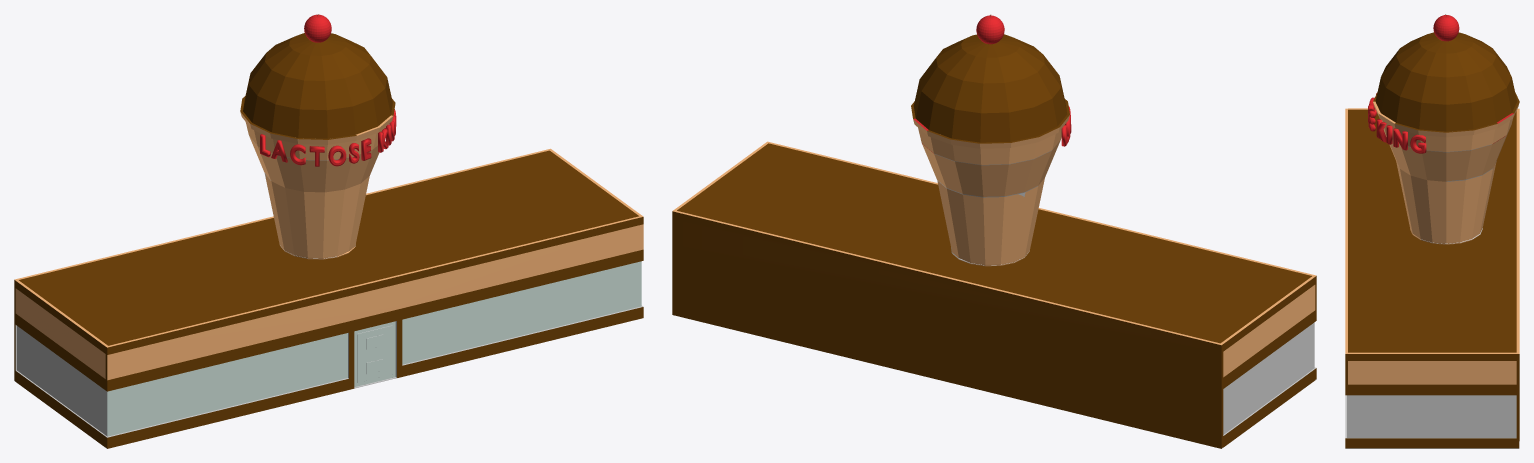
The model's file is Cafe3Final.fbx.
The picture shows the model from 3 angles, left to right: view 1: azimuth 30°, elevation 25°; view 2: azimuth 150°, elevation 25°; view 3: azimuth 270°, elevation 25°; orthographic projection. The views are drawn at different scales.
Parts seen in each view (by area): view 1: LactoseKing; view 2: LactoseKing; view 3: LactoseKing.
Part boxes in pixels (x1,y1,x2,y2): LactoseKing: [14, 14, 643, 448]; LactoseKing: [672, 14, 1316, 448]; LactoseKing: [1345, 14, 1519, 448].
Size of the model in its own units: 5000 by 2950 by 1503.
